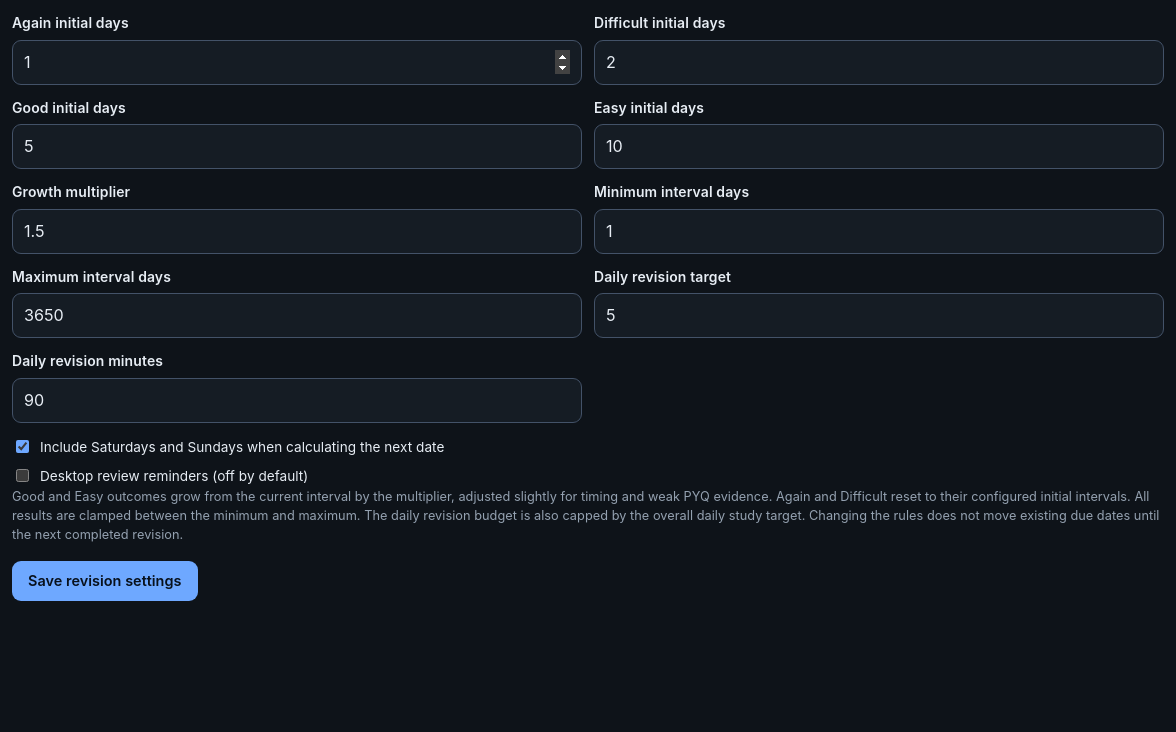
Scenario: revision settings panel › does not enable reminders when Windows denies permission
The width and height of the screenshot is (1176, 732).
Click the checkbox labelled "Desktop review reminders (off by default)".
click(22, 476)  # box [16, 469, 29, 482]
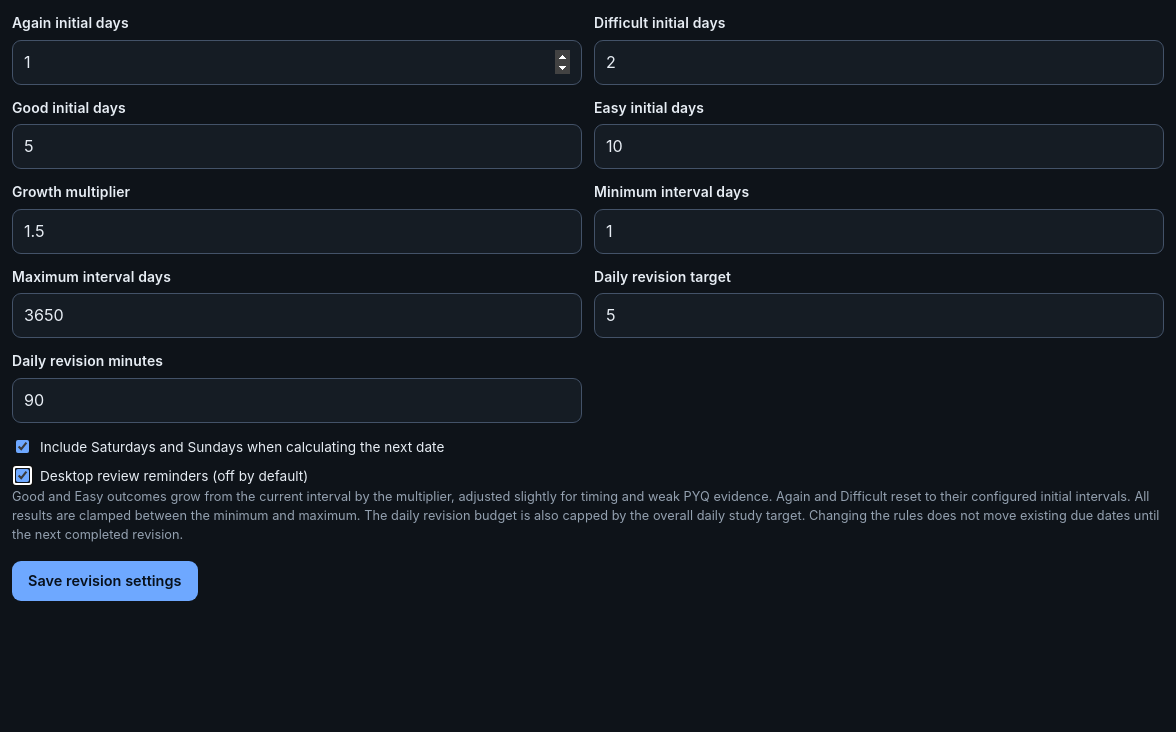
Click the button "Save revision settings".
click(105, 581)  # box [12, 560, 198, 601]
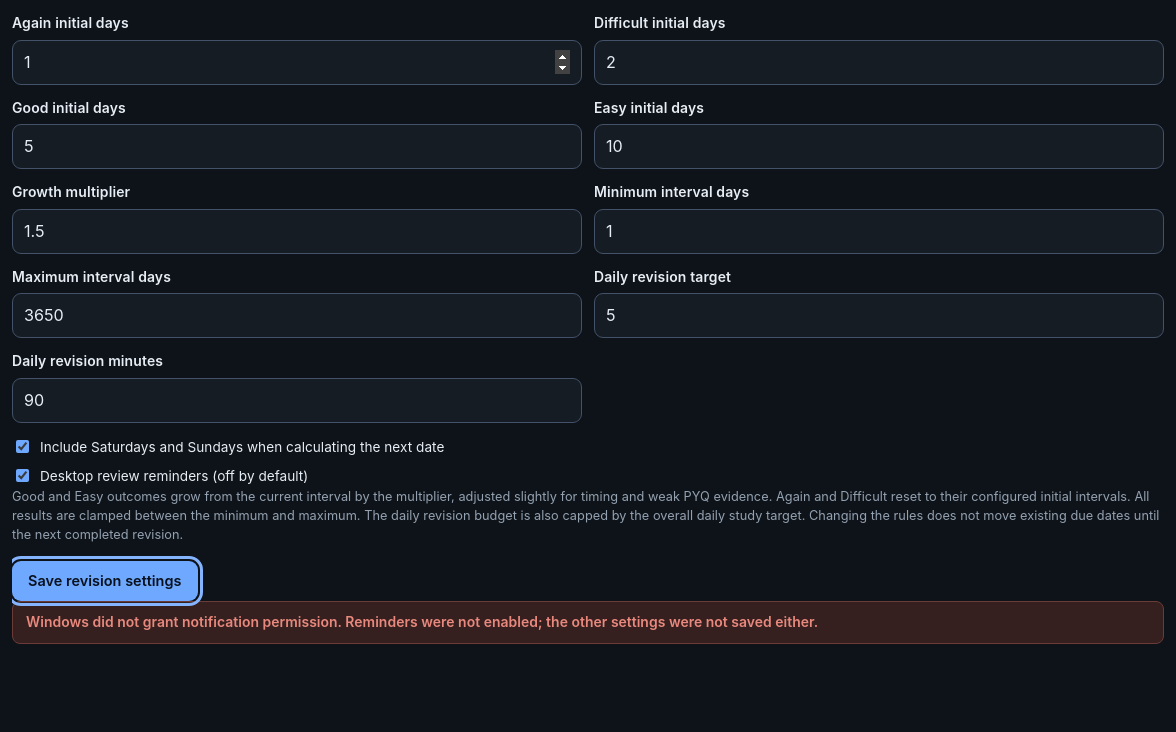
Check: the text "notification permission" is shown, box [26, 613, 818, 630]
